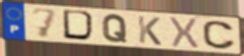7: (31, 7, 59, 40)
C: (201, 20, 238, 51)
D: (61, 8, 98, 43)
K: (136, 14, 163, 46)
Q: (101, 13, 128, 44)
X: (168, 15, 200, 50)
